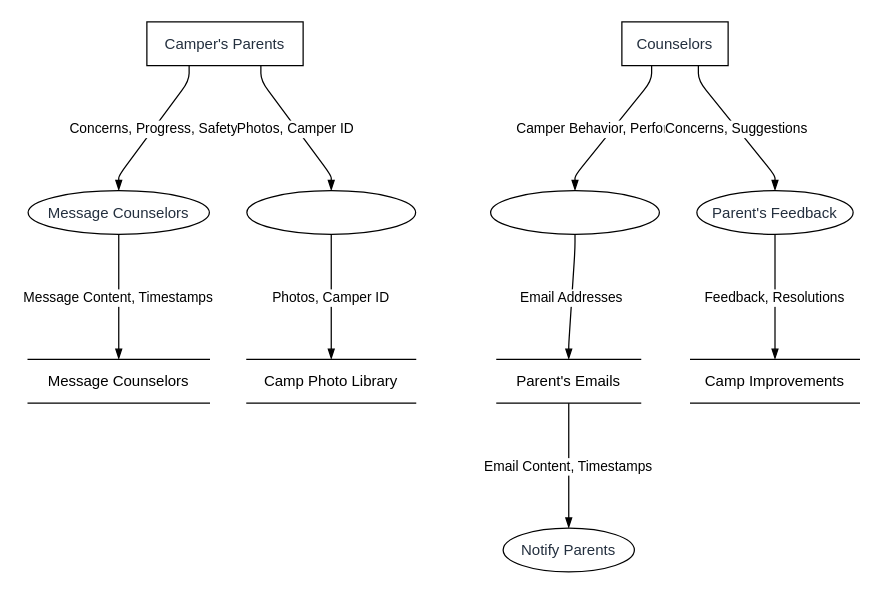
Some shapes in this 881 by 594 pixel diagram are drawn without their labels. Here are the shapes that lost their labels. From the top down, the centre of each, then its label:
At point 331,211: "Share Camp Photos".
At point 574,211: "Bi-Weekly Feedback".
